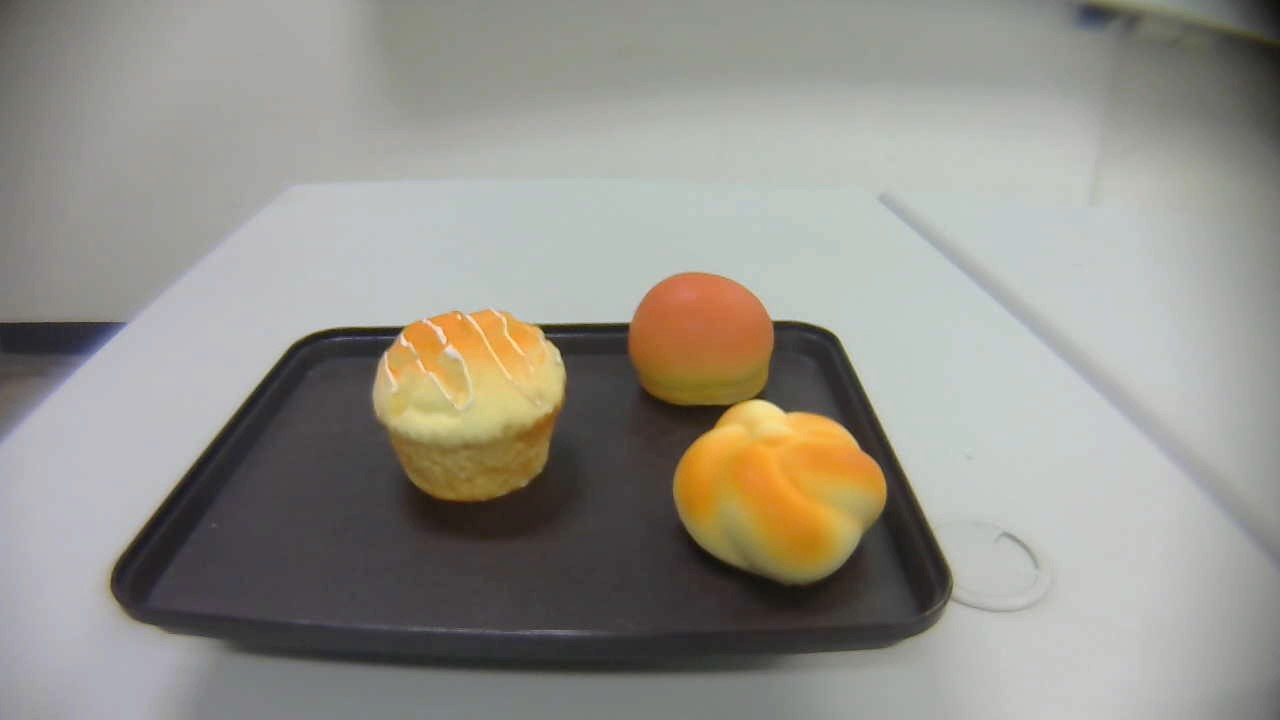bun: (626, 272, 774, 407)
cupcake: (371, 306, 568, 501)
twist bread: (671, 399, 888, 587)
